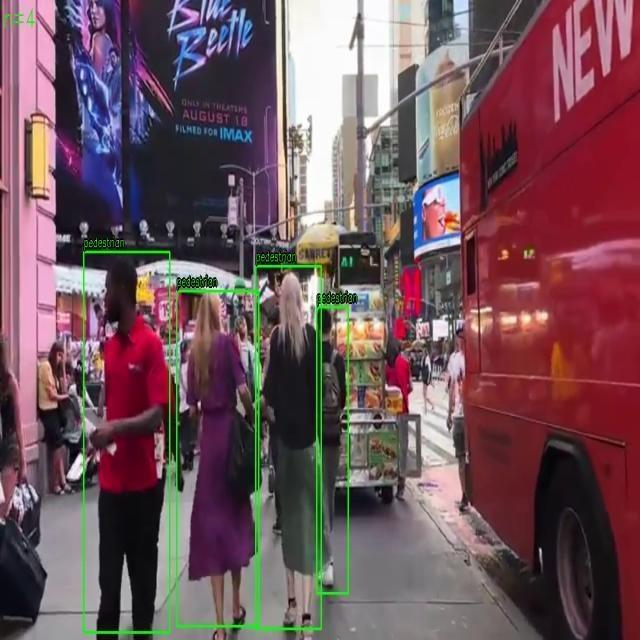person: (84, 251, 170, 633), (176, 290, 260, 626), (256, 266, 322, 630), (316, 306, 348, 594)
